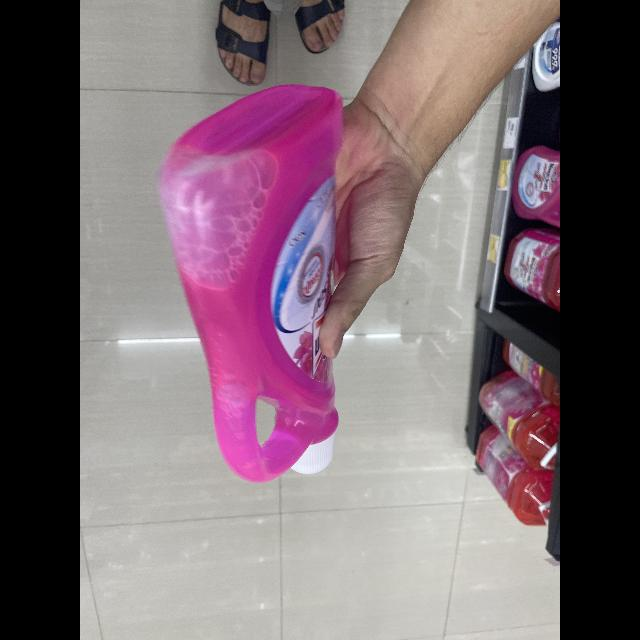chemical_plastic_gallon: (158, 76, 366, 480)
